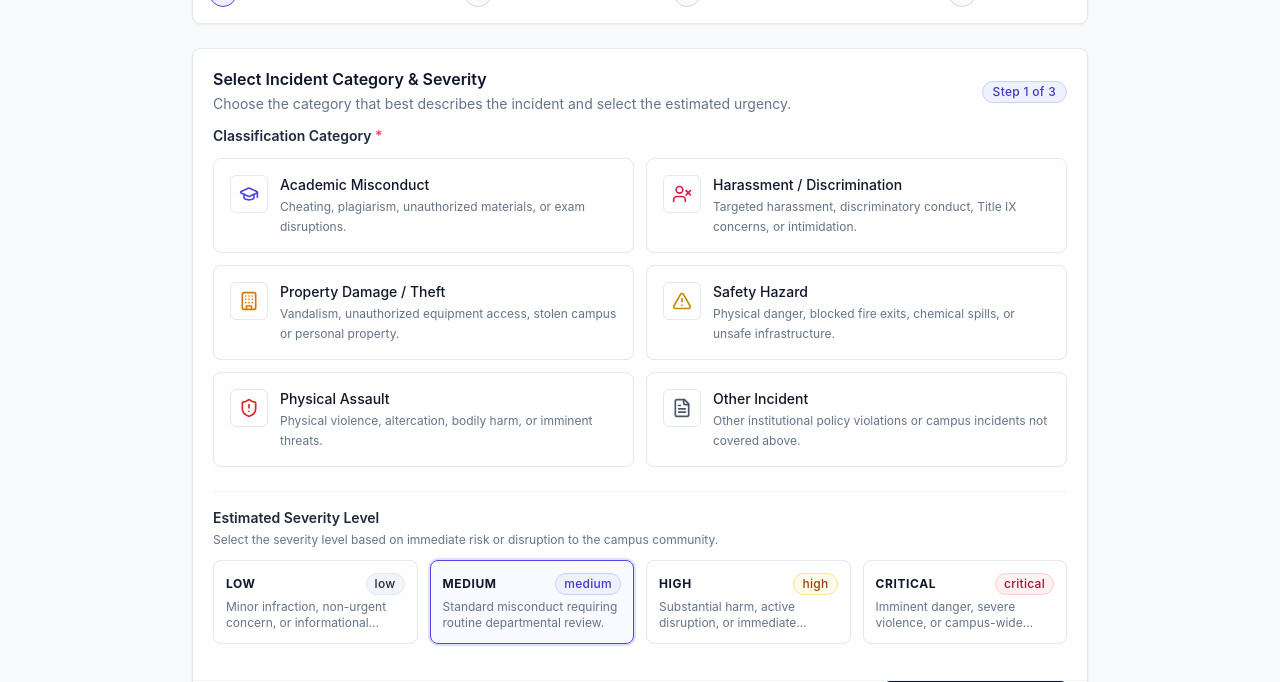
Test: IncidentIntakeWizard Component › navigates to Step 2 when category is selected, and allows backing up to Step 1
Click the radio button "Academic Misconduct" at {"x": 424, "y": 206}, box [213,158,634,253]
(page scrolled)
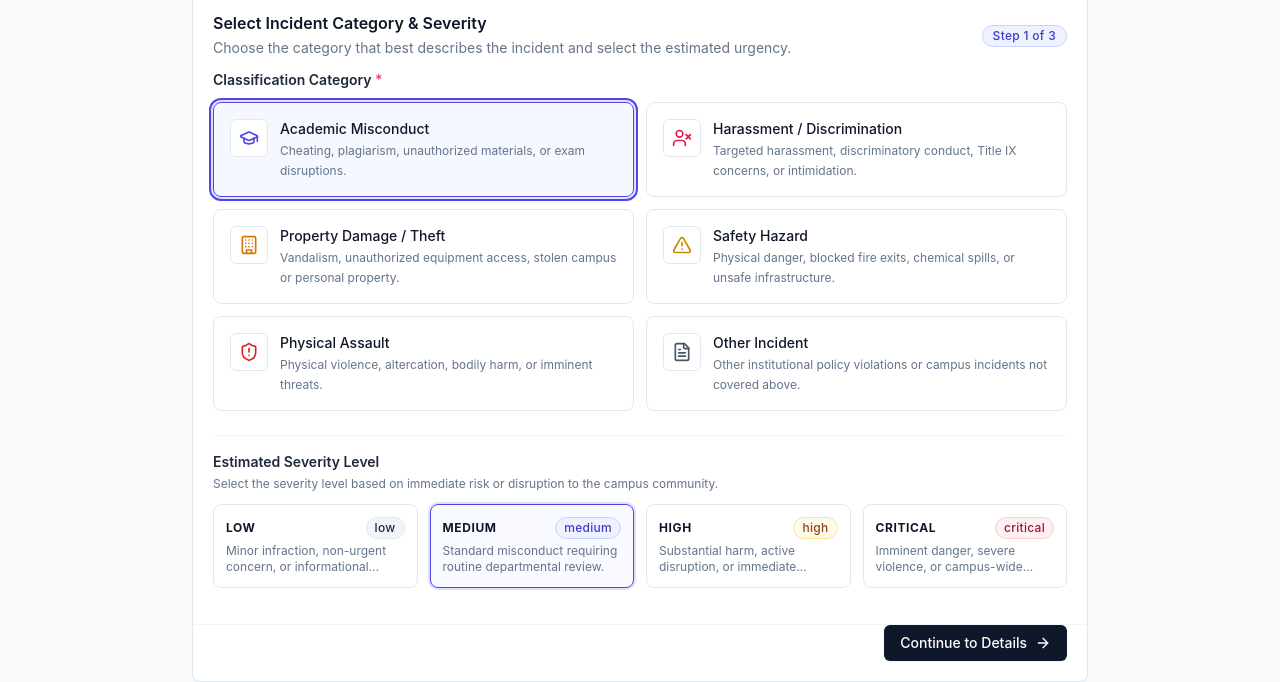
Note: Click continue
Click the button "Continue to Details" at {"x": 976, "y": 643}, box [884,625,1067,661]
(page scrolled)
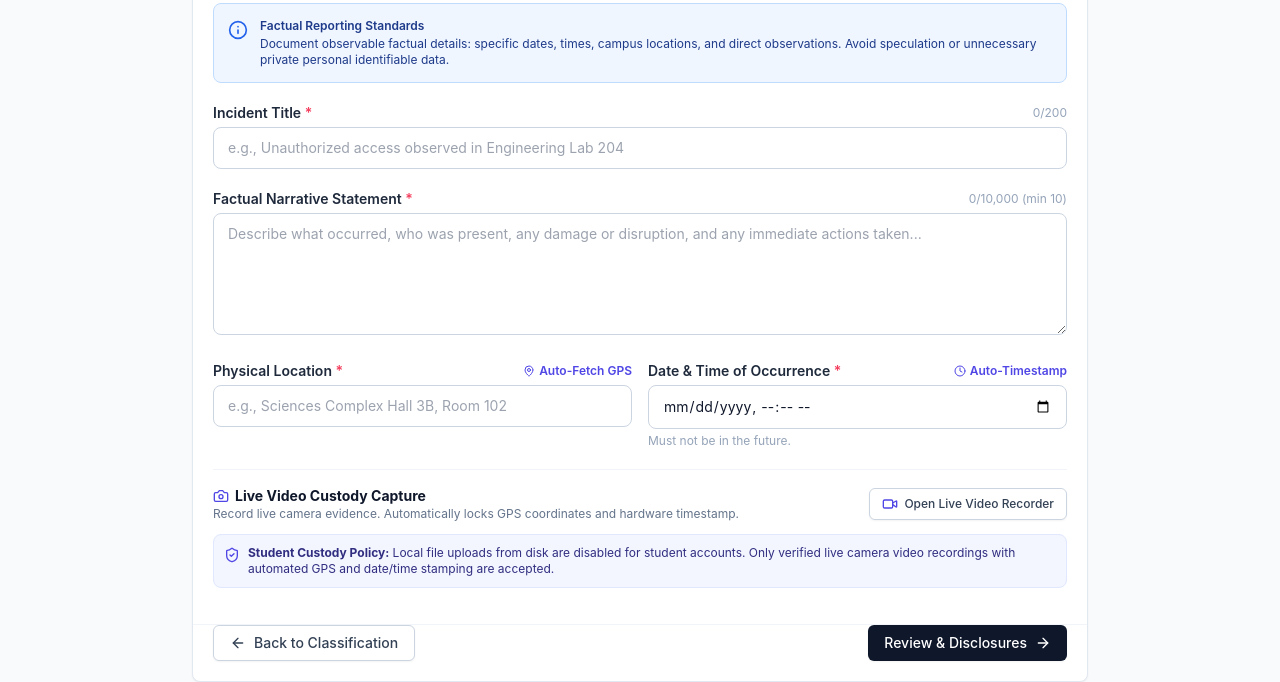
Expected: the field labelled "Incident Title *" is shown, [213,127,1067,169]
Expected: the text box labelled "Factual Narrative Statement *" is shown, [213,213,1067,335]
Note: Click Back to Classification
Click the button "Back to Classification" at {"x": 314, "y": 643}, box [213,625,415,661]
(page scrolled)
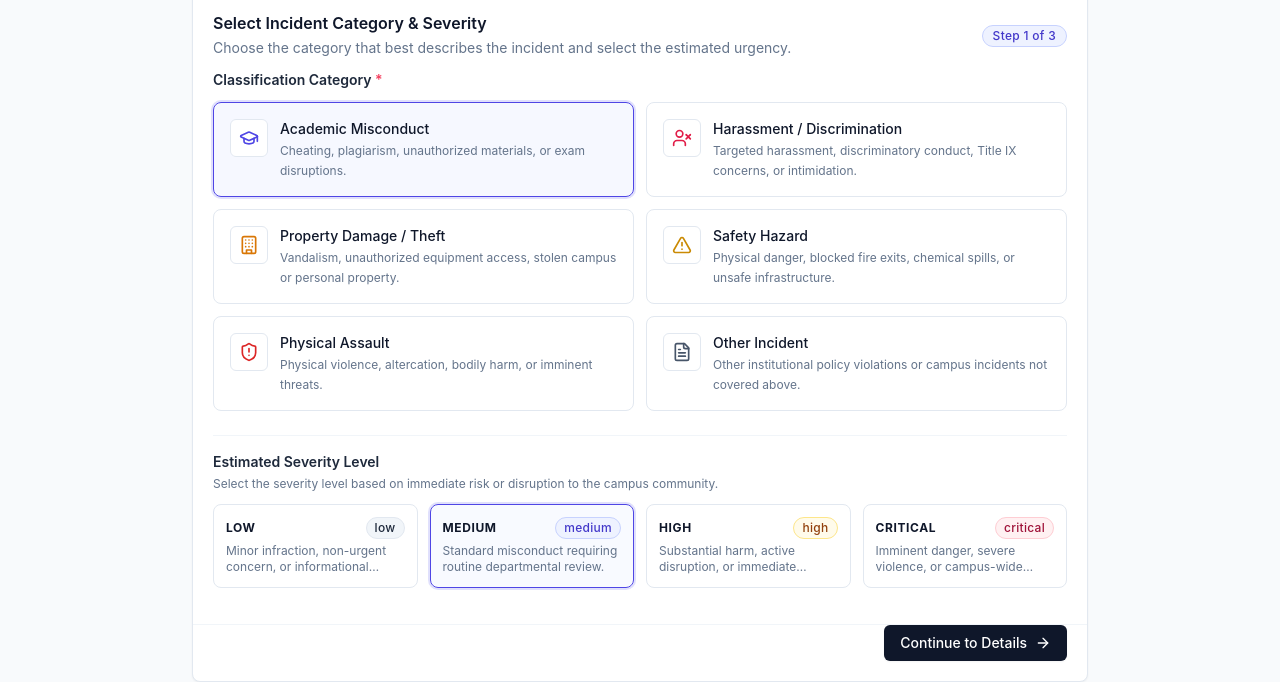
Expected: the heading "Select Incident Category & Severity" is shown, [213,13,487,33]
